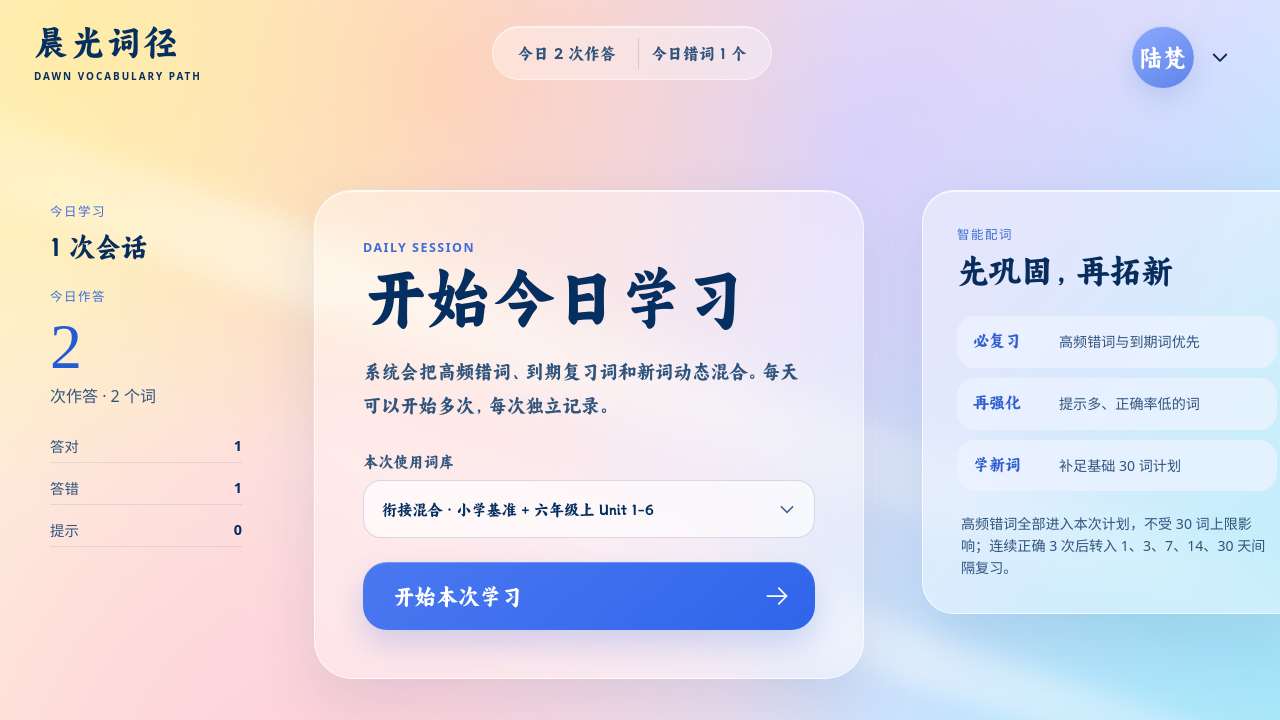
it: 晨光词径每日学习会话 › 学习记录第一层只显示答对答错，展开后显示每个单词结果
The width and height of the screenshot is (1280, 720).
Click the button with aria-label "打开个人菜单" at (1178, 57), box x1=1126 y1=26 x2=1230 y2=88
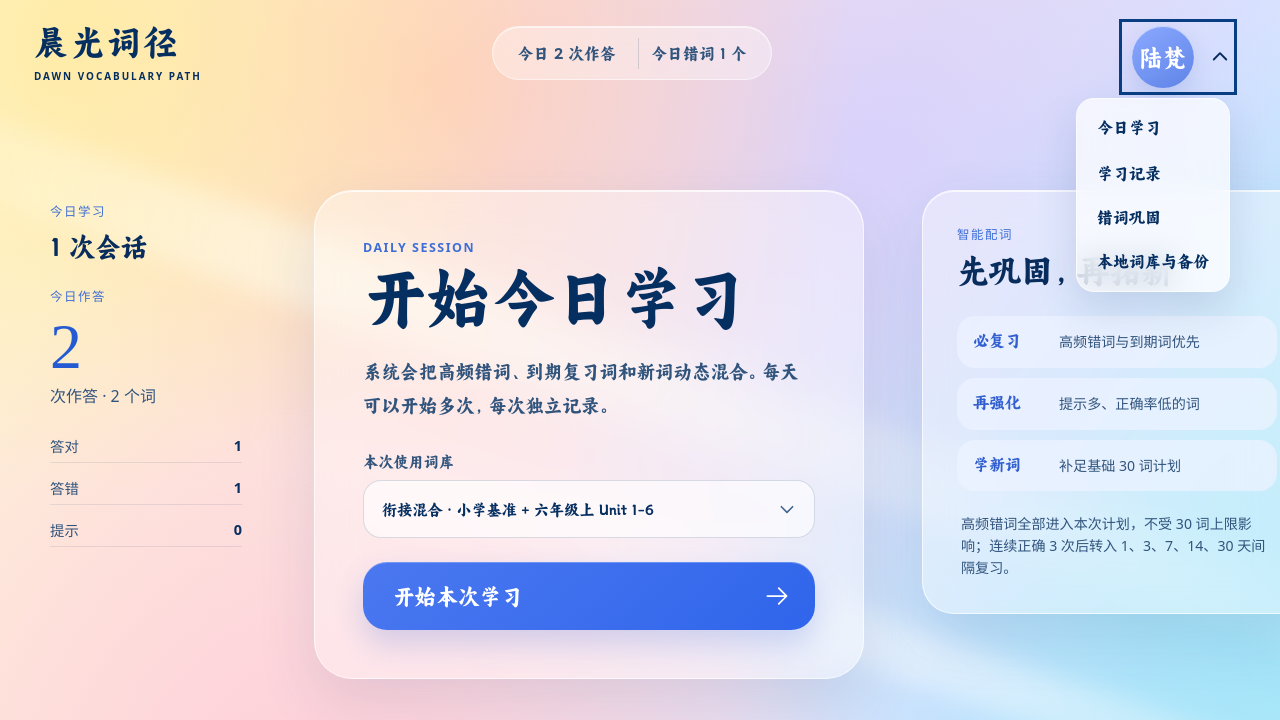
Click the button "学习记录" at (1153, 173), box x1=1085 y1=151 x2=1221 y2=195
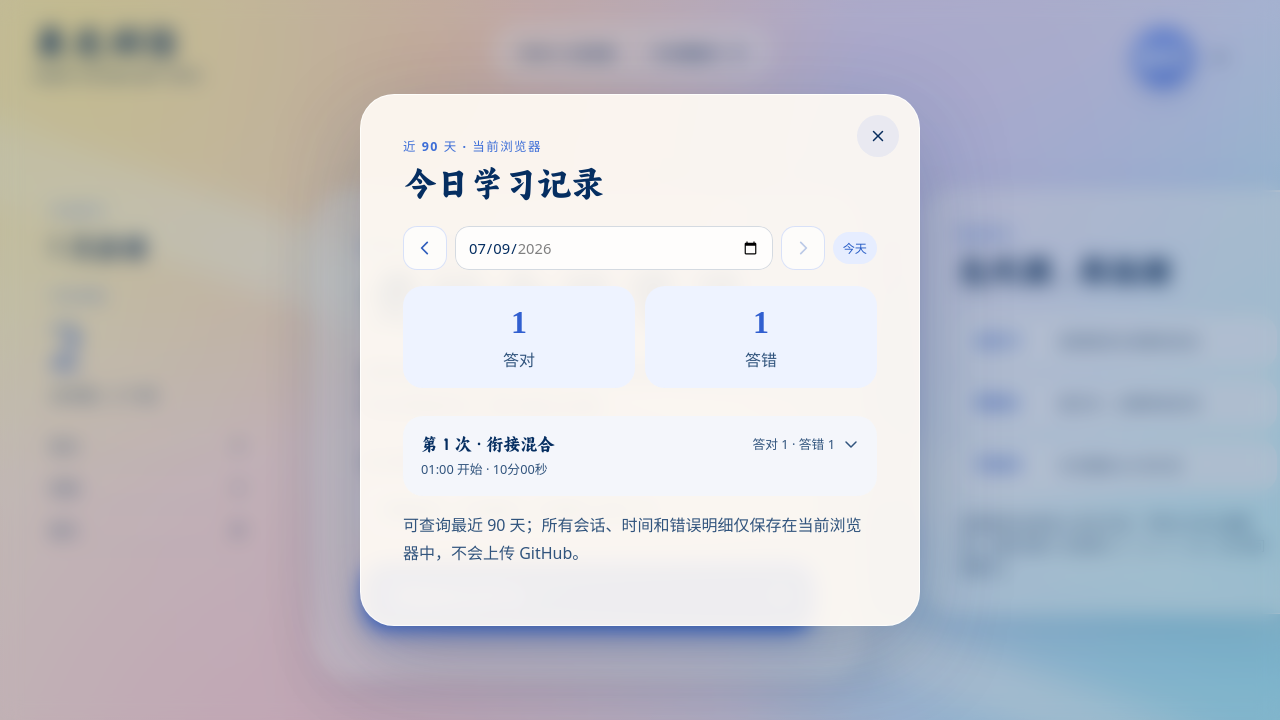
Expected: the text "life" is not shown
Result: the text "答对" is shown at x1=503 y1=347 x2=535 y2=371
Result: the text "答错" is shown at x1=745 y1=347 x2=777 y2=371
Click the button with aria-label "展开第 1 次学习明细" at (468, 444), box x1=403 y1=416 x2=877 y2=496
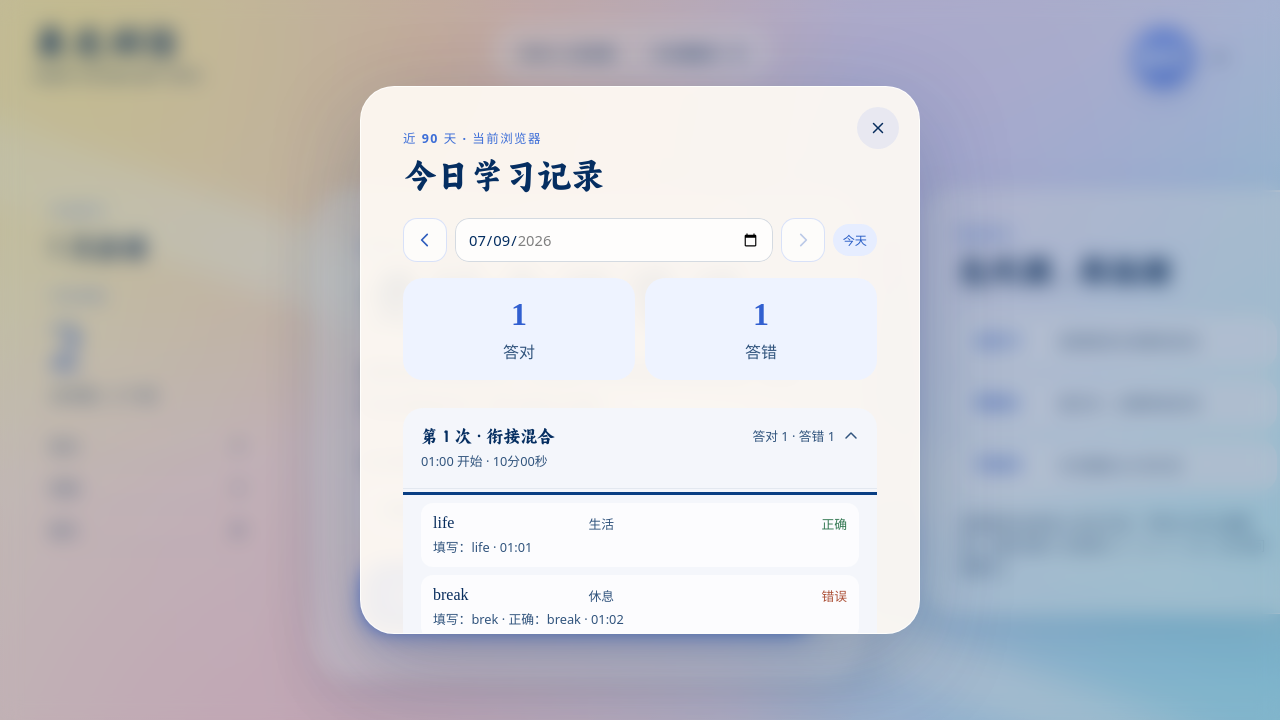
Result: the text "life" is shown at x1=433 y1=514 x2=454 y2=531
Result: the text "break" is shown at x1=433 y1=586 x2=468 y2=603
Result: the text "正确" is shown at x1=821 y1=514 x2=847 y2=533
